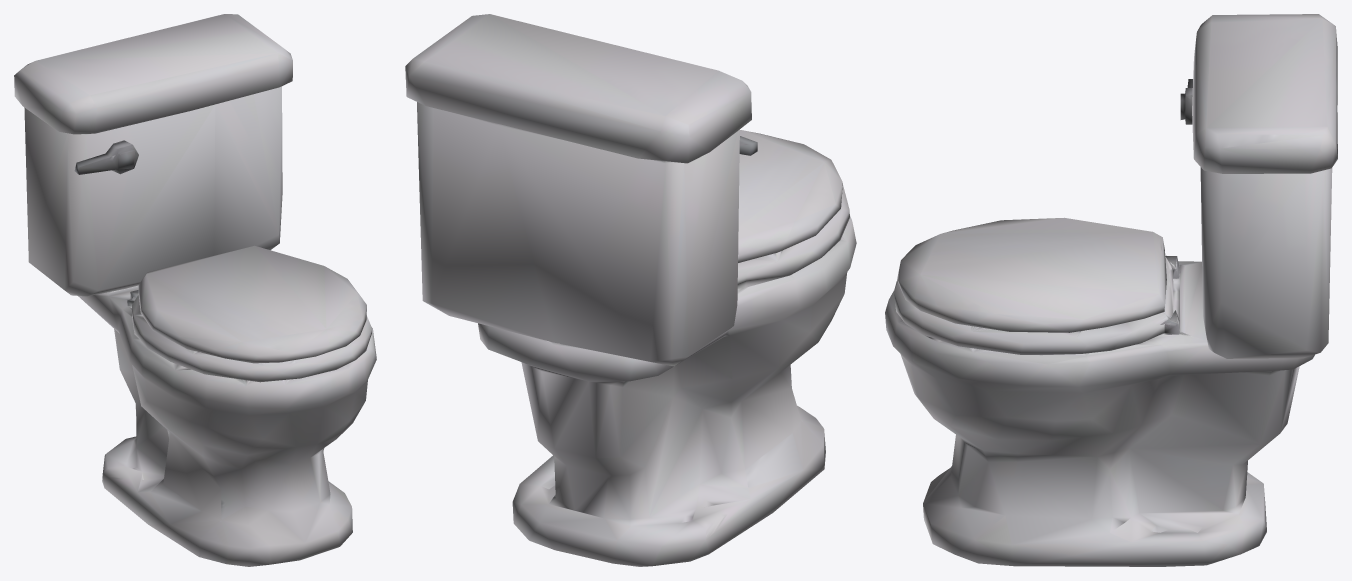
File: toilet.glb
3 renders of one model, left to right at view 1: azimuth 30°, elevation 25°; view 2: azimuth 150°, elevation 25°; view 3: azimuth 270°, elevation 25°, orthographic. The views are drawn at different scales.
Parts seen in each view (by area): view 1: Mesh_0; view 2: Mesh_0; view 3: Mesh_0.
Boxes of the visible parts, box(x1,y1,x2,y2) form: Mesh_0: box(14, 14, 376, 566); Mesh_0: box(405, 14, 856, 566); Mesh_0: box(885, 14, 1337, 566).
Size of the model in its own units: 0.4988 by 0.8 by 0.7262.
Materials: 1 (1 with a texture image).
